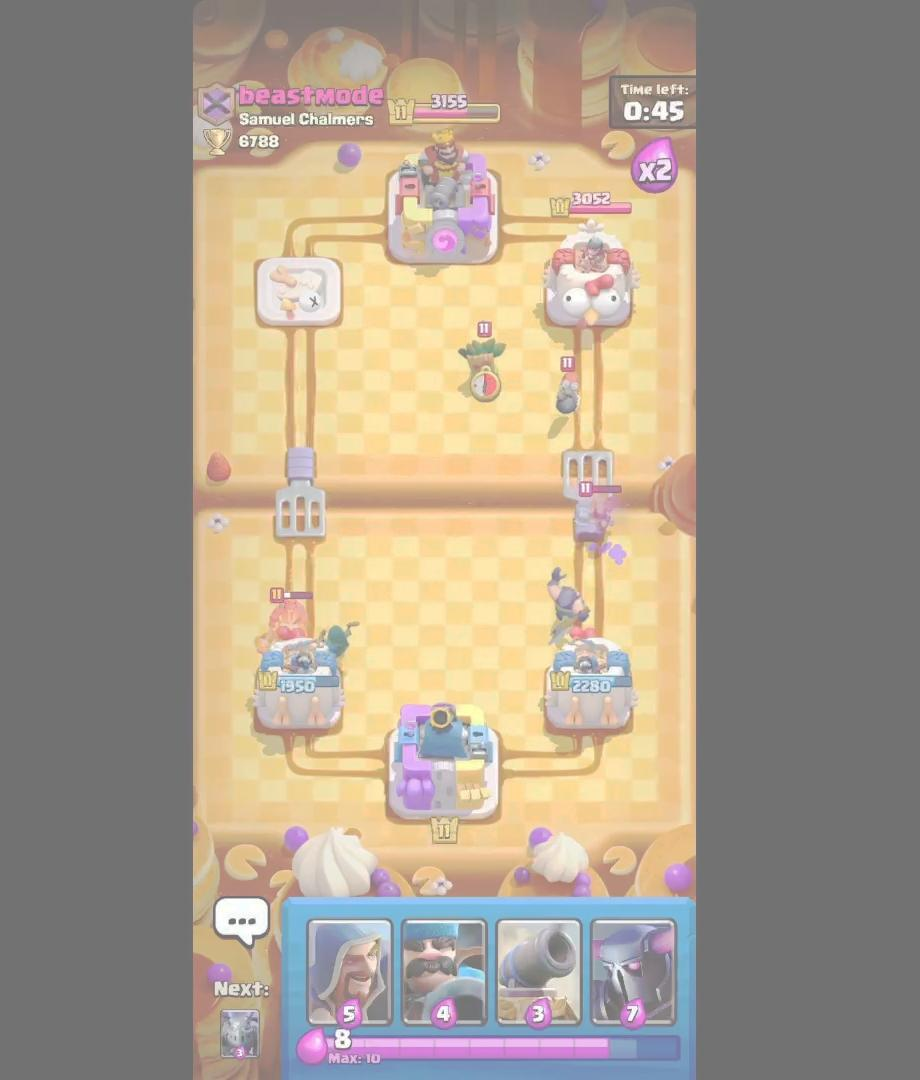Bomber: (552, 352, 585, 423)
Dart Goblin: (457, 320, 512, 400)
Hog Rider: (261, 585, 316, 645)
Valkyrie: (574, 480, 621, 533)
